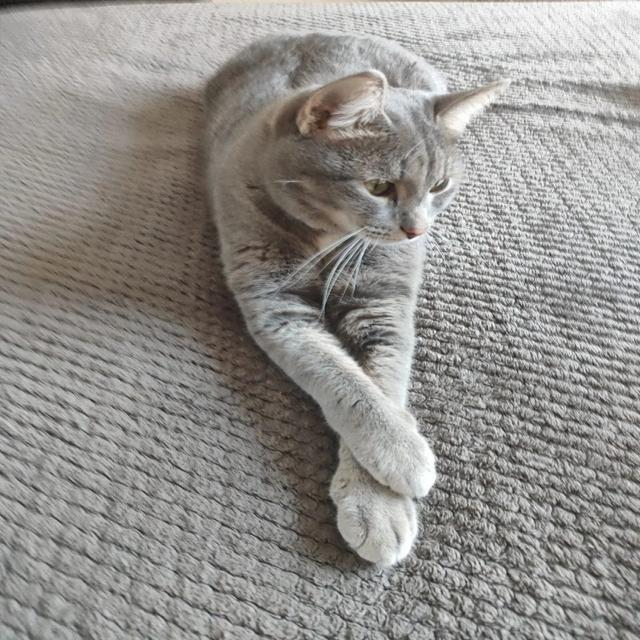Cats: (199, 34, 505, 573)
